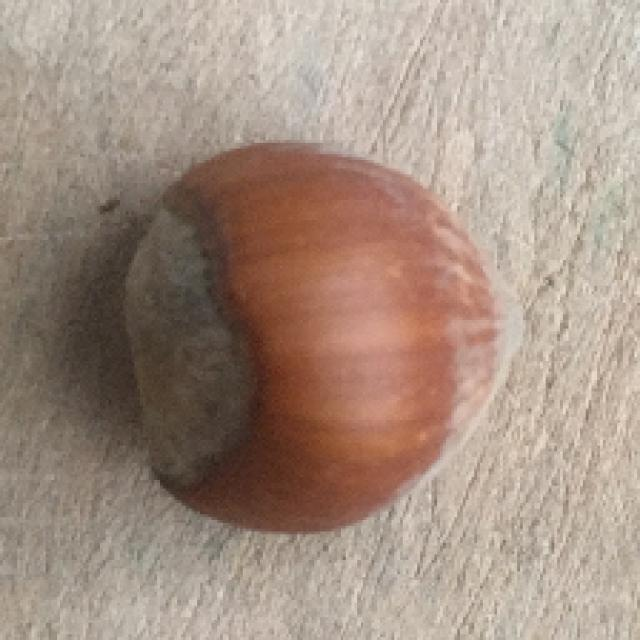qualityHazelnut: (114, 150, 516, 536)
